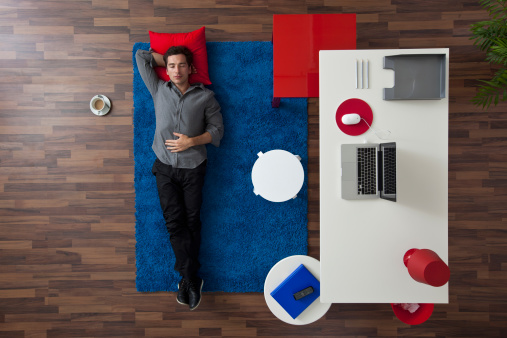deitado: (149, 34, 223, 300)
